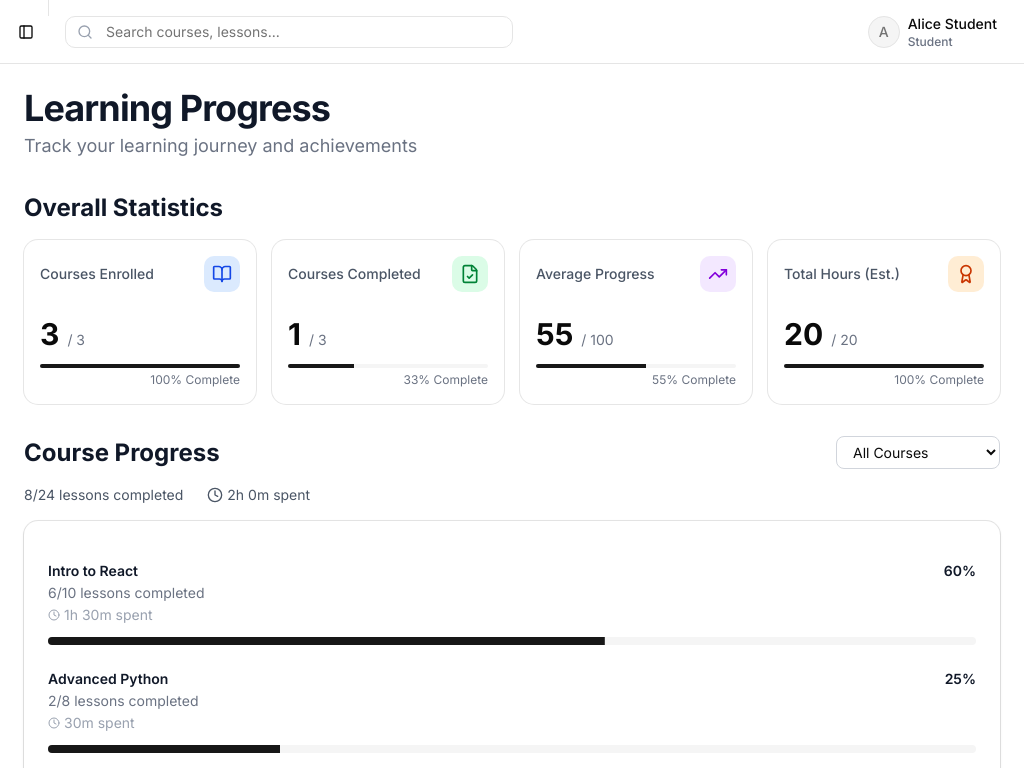
Test: Progress Page - Course Filter (14.6) › updates lesson summary when filter applied
Expected: the heading "Course Progress" is shown, x1=24 y1=436 x2=220 y2=468
Select "Intro to React" in the dropdown named "filter by course" at (918, 452), box x1=836 y1=436 x2=1000 y2=469
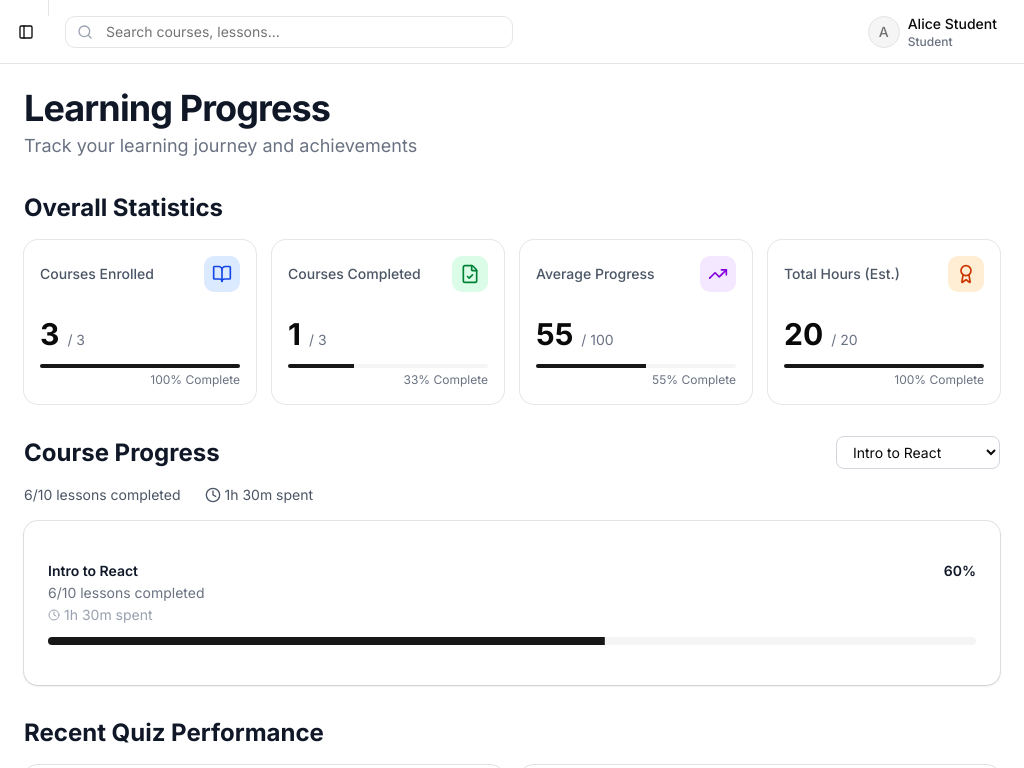
Expected: the text with test id "total-lessons" reads "6/10 lessons completed", x1=24 y1=485 x2=180 y2=505
